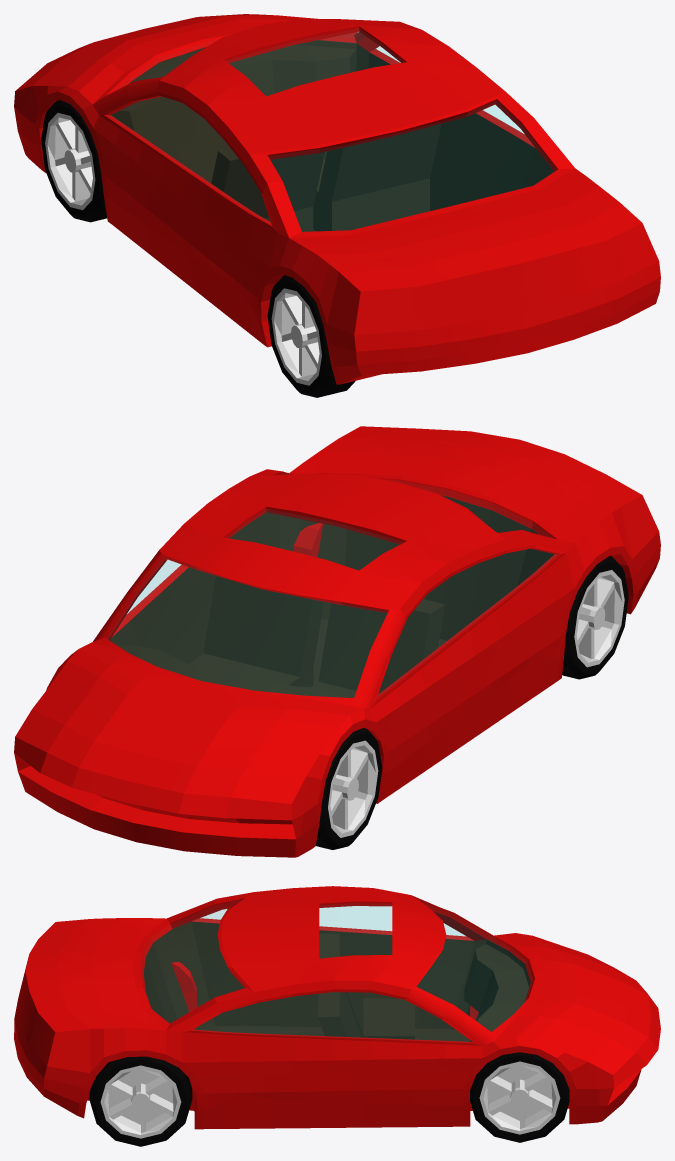
The model's file is VehicleCarSportsProto1.fbx.
3 renders of one model, top to bottom at view 1: azimuth 30°, elevation 25°; view 2: azimuth 150°, elevation 25°; view 3: azimuth 270°, elevation 25°, orthographic. The views are drawn at different scales.
Parts seen in each view (by area): view 1: Body, Interior, WheelLR, WheelLF; view 2: Body, Interior, WheelLR, WheelLF; view 3: Body, Interior, WheelRR, WheelRF.
Boxes of the visible parts, box(x1,y1,x2,y2) form: Body: box(14, 14, 660, 384); Interior: box(111, 40, 553, 231); WheelLR: box(267, 275, 355, 397); WheelLF: box(41, 100, 107, 222); Body: box(14, 426, 660, 857); Interior: box(109, 495, 554, 697); WheelLR: box(562, 555, 628, 679); WheelLF: box(316, 728, 382, 849); Body: box(14, 886, 660, 1129); Interior: box(143, 921, 530, 1111); WheelRR: box(89, 1056, 192, 1146); WheelRF: box(470, 1052, 569, 1142).
Size of the model in its own units: 1982 by 1265 by 4546.
